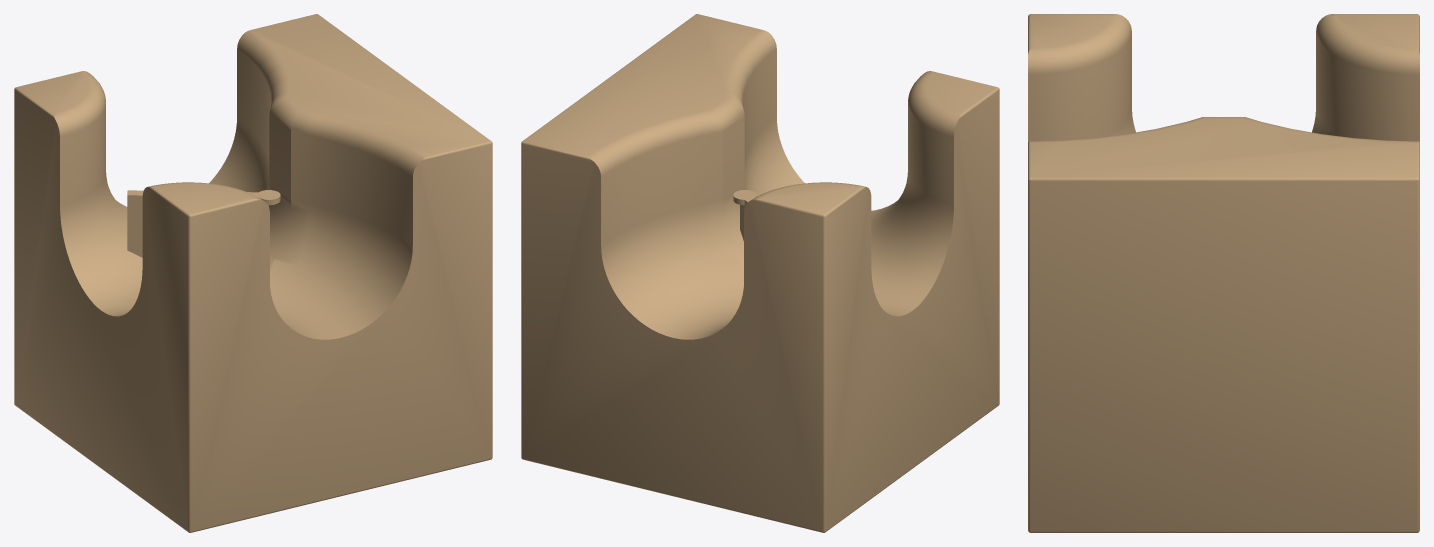
The model's file is mech_toggle_l2.glb.
The picture shows the model from 3 angles, left to right: view 1: azimuth 30°, elevation 25°; view 2: azimuth 150°, elevation 25°; view 3: azimuth 270°, elevation 25°; orthographic projection. The views are drawn at different scales.
Visible parts, largest first — view 1: mech_toggle_l2_lod0, anim_rocker_lod0; view 2: mech_toggle_l2_lod0; view 3: mech_toggle_l2_lod0.
Part boxes in pixels (bbox=[...]): mech_toggle_l2_lod0: bbox=[14, 14, 492, 532]; anim_rocker_lod0: bbox=[127, 190, 280, 257]; mech_toggle_l2_lod0: bbox=[521, 14, 999, 532]; mech_toggle_l2_lod0: bbox=[1028, 14, 1419, 532].
Size of what is drawn, in the model's own units: 0.0596 by 0.0596 by 0.0596.
